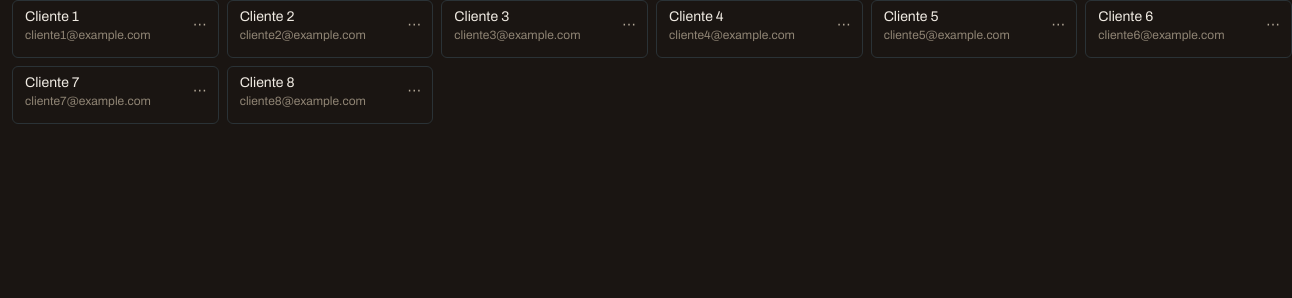
it: GalleryClientList — a hidden row's open menu (review round 1) › hands focus over when a row that owns the focused control is hidden, and keeps that row mounted
Click the button named "Acciones para Cliente 7": (200, 91) [188,79,212,103]
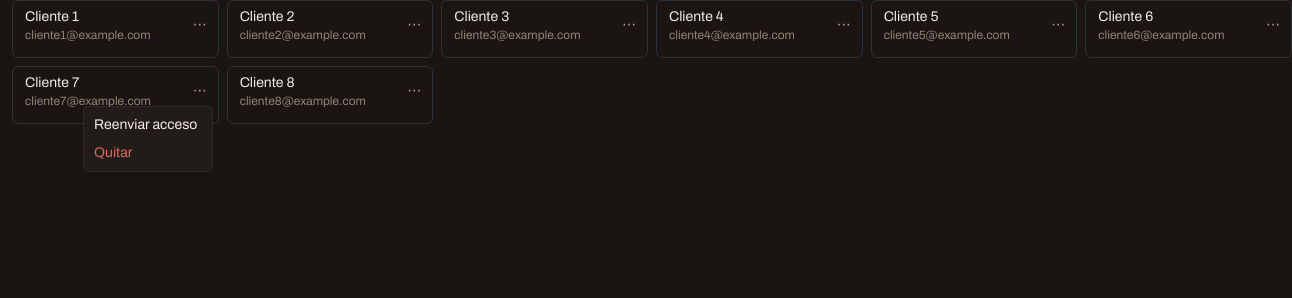
Click the menu item "Reenviar acceso": (146, 124) [94,117,197,132]
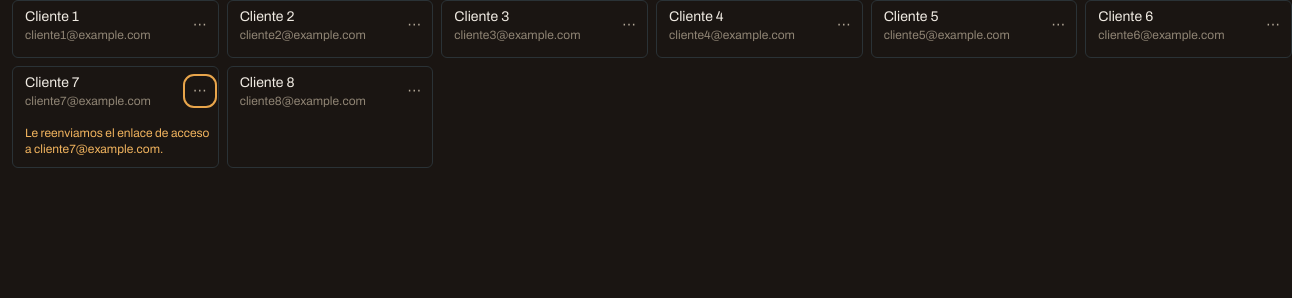
Now the message "Le reenviamos el enlace de acceso a cliente7@example.com." is shown, box [25,125,212,161]
Click the button named "Acciones para Cliente 7": (200, 91) [188,79,212,103]
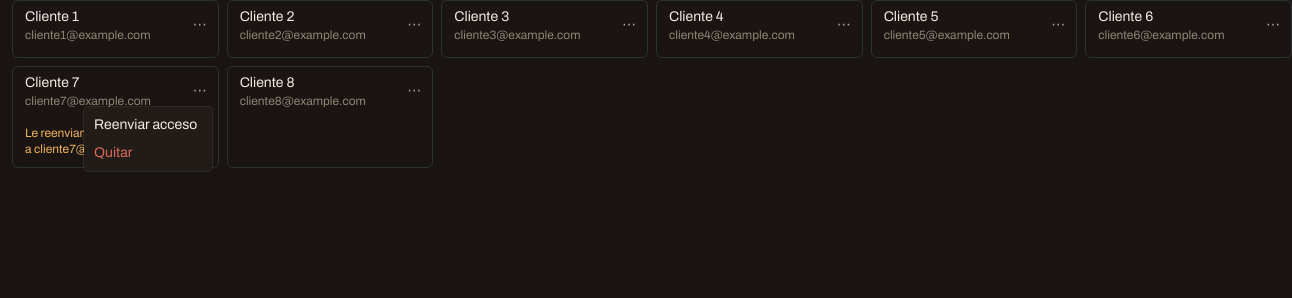
Click the menu item "Quitar": (113, 152) [94,145,132,160]
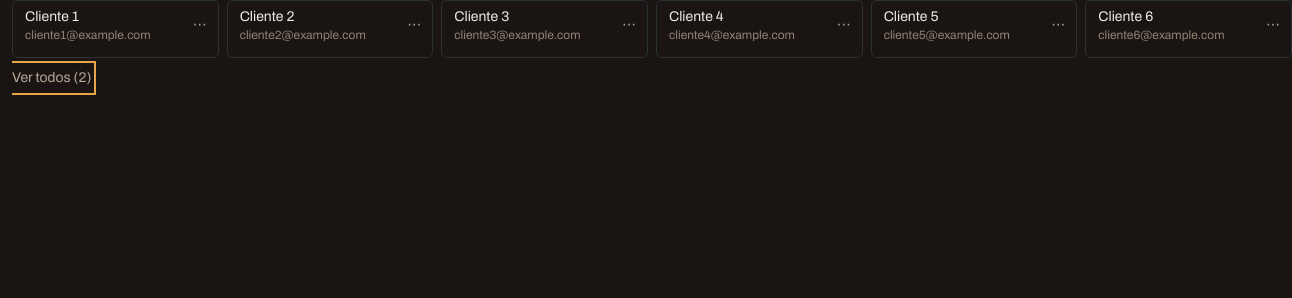
Expected: the button "Confirmar" is not shown
Click the button "Ver todos (2)": (52, 78) [12,66,91,90]
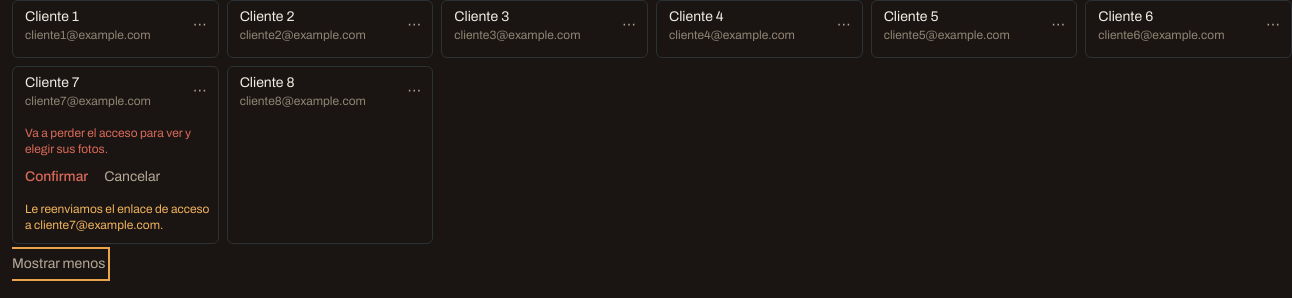
Now the button "Confirmar" is shown, box [25,165,88,189]
Now the text "Le reenviamos el enlace de acceso a cliente7@example.com." is shown, box [25,201,212,237]
